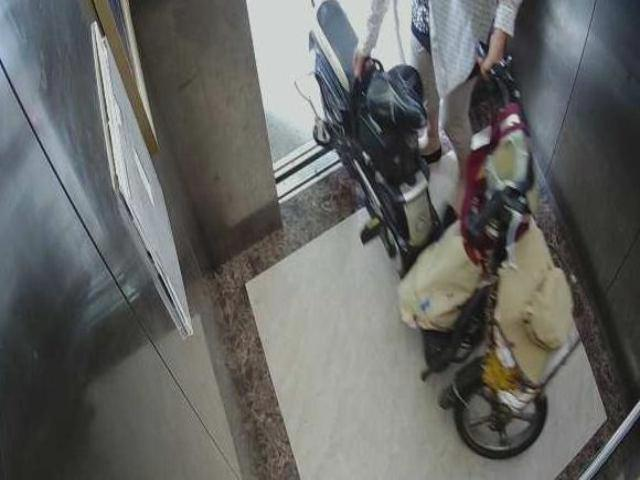emotor: (306, 7, 572, 452)
